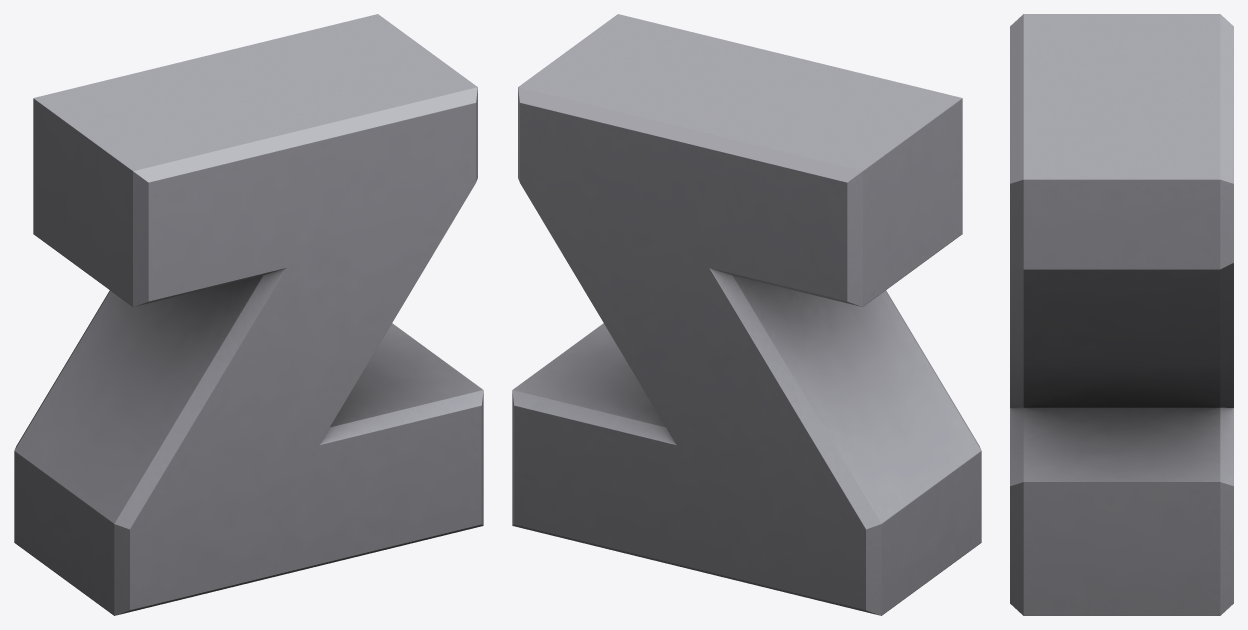
The model's file is z_lowc_static.fbx.
The picture shows the model from 3 angles, left to right: view 1: azimuth 30°, elevation 25°; view 2: azimuth 150°, elevation 25°; view 3: azimuth 270°, elevation 25°; orthographic projection.
Visible parts, largest first — view 1: z_lowc_static; view 2: z_lowc_static; view 3: z_lowc_static.
Part boxes in pixels (x1=…): z_lowc_static: x1=14, y1=14, x2=483, y2=615; z_lowc_static: x1=512, y1=14, x2=981, y2=615; z_lowc_static: x1=1010, y1=14, x2=1233, y2=615.
Size of the model in its own units: 61.87 by 70.48 by 33.
